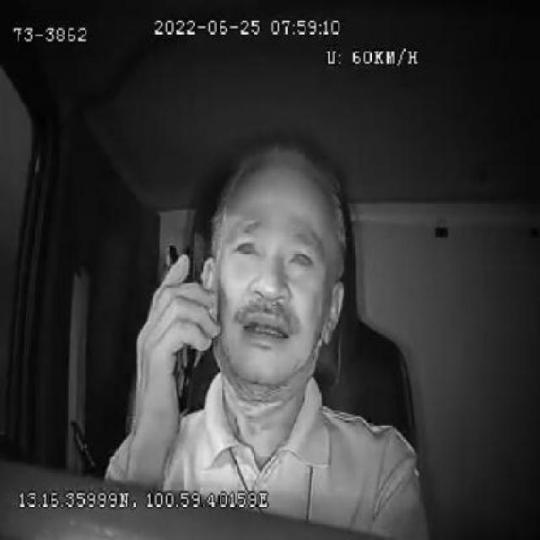phone: (157, 238, 202, 423)
